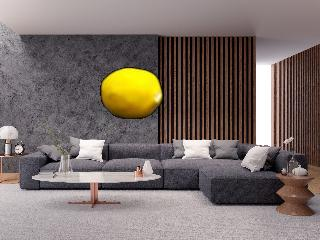lemon: (102, 68, 164, 118)
